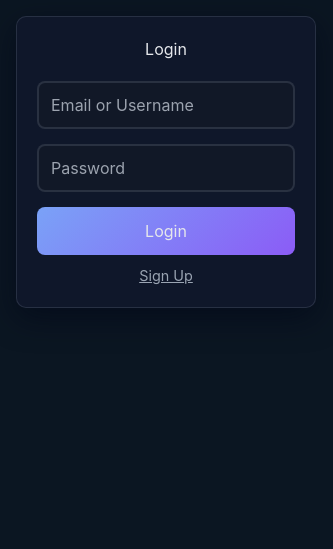
it: Profile Component › Signup View › switches back to login view when back button clicked
Step 1. Click the button with test id "switch-to-signup" → (166,271), box [37,255,295,287]
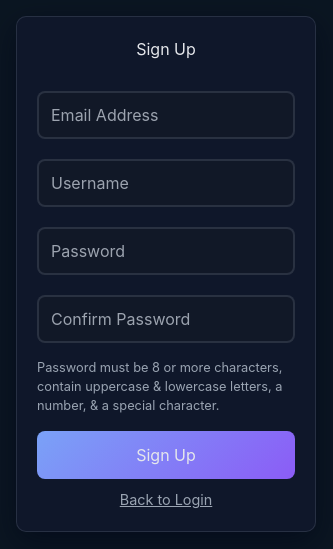
Now the field with test id "signup-email-input" is shown, box [37,91,295,139]
Step 2. Click the button with test id "back-to-login" → (166,494), box [37,479,295,510]
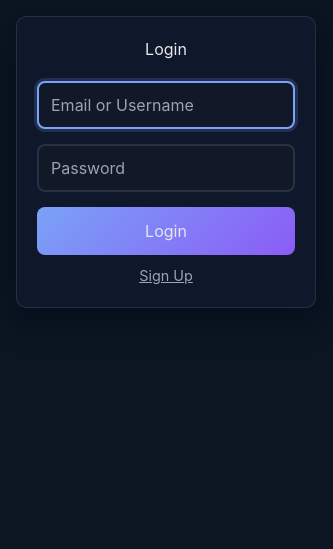
Now the field with test id "login-email-input" is shown, box [37,81,295,129]
